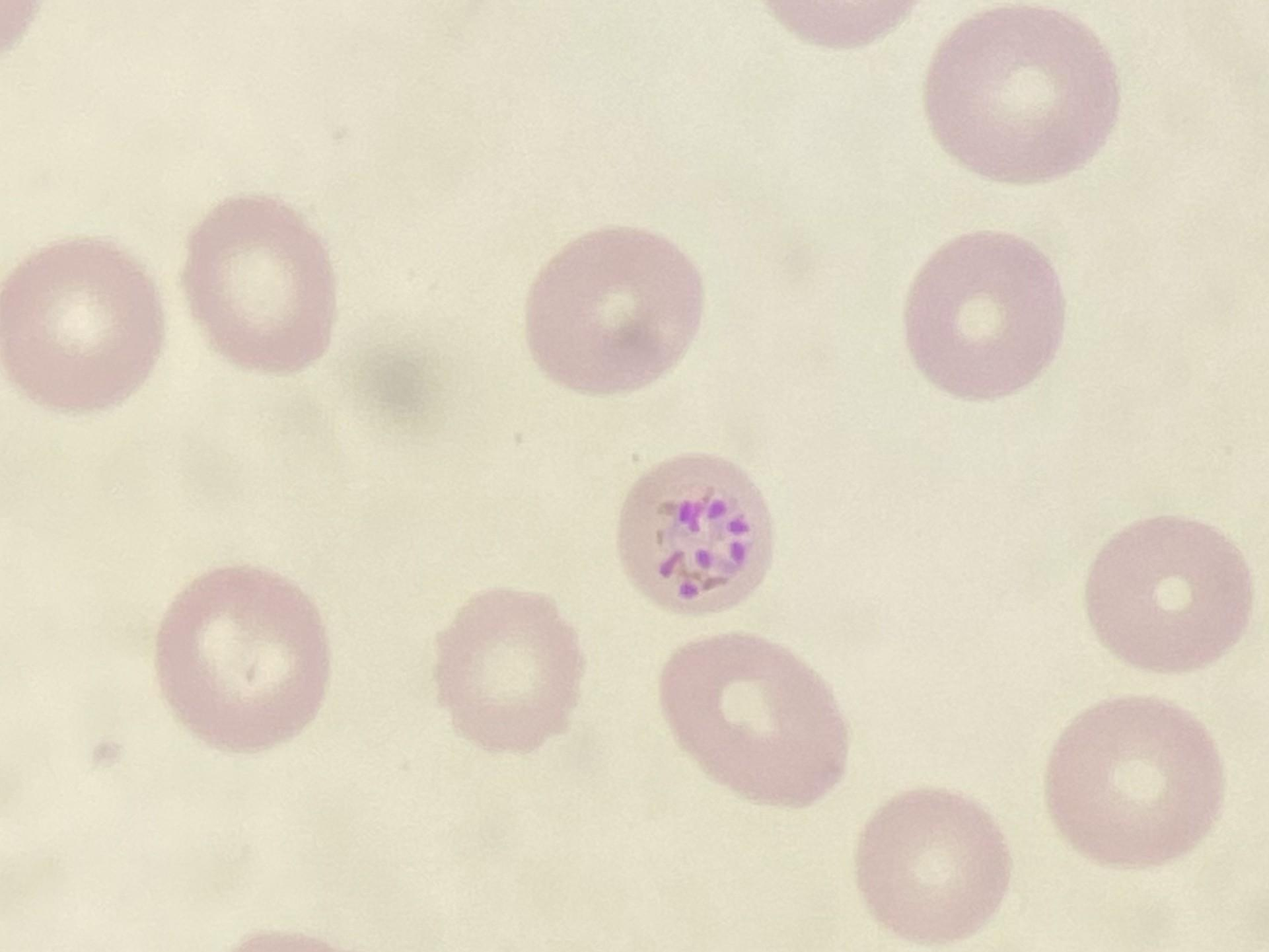Infected: (617, 452, 780, 616)
Uninfected: (922, 5, 1120, 182), (148, 568, 334, 754), (659, 635, 853, 807), (1041, 698, 1223, 870), (523, 226, 705, 396), (898, 230, 1073, 404), (1078, 513, 1256, 675), (0, 237, 161, 410), (182, 194, 338, 371), (432, 585, 592, 752), (852, 791, 1015, 946)
